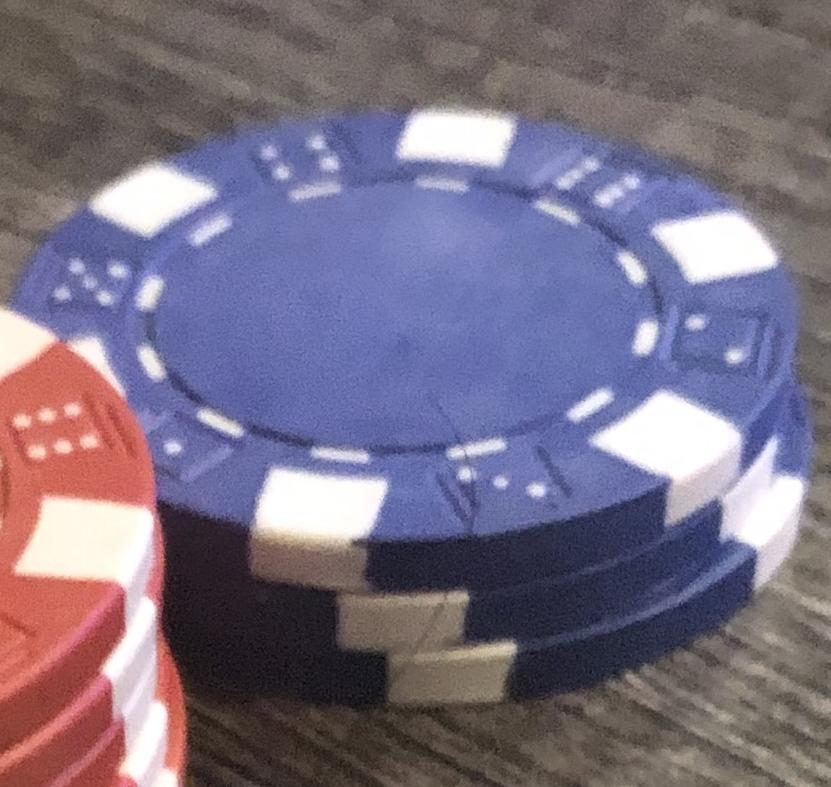Chip: (1, 1, 831, 787)
